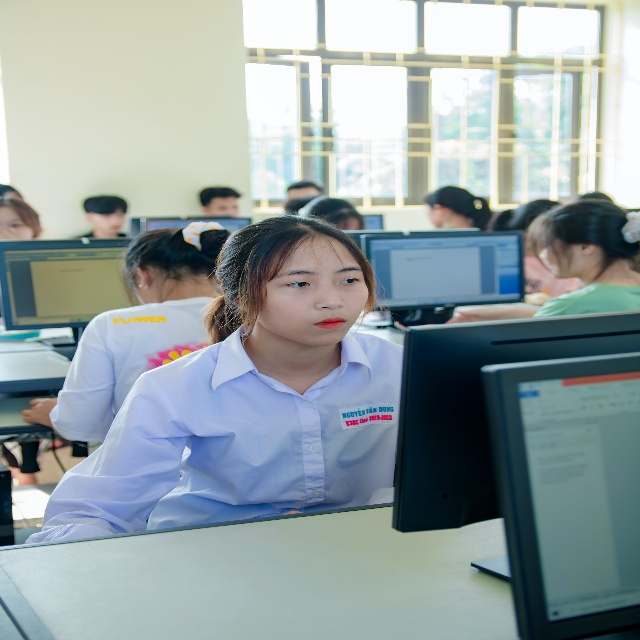Sin_guantes: (20, 391, 59, 429)
